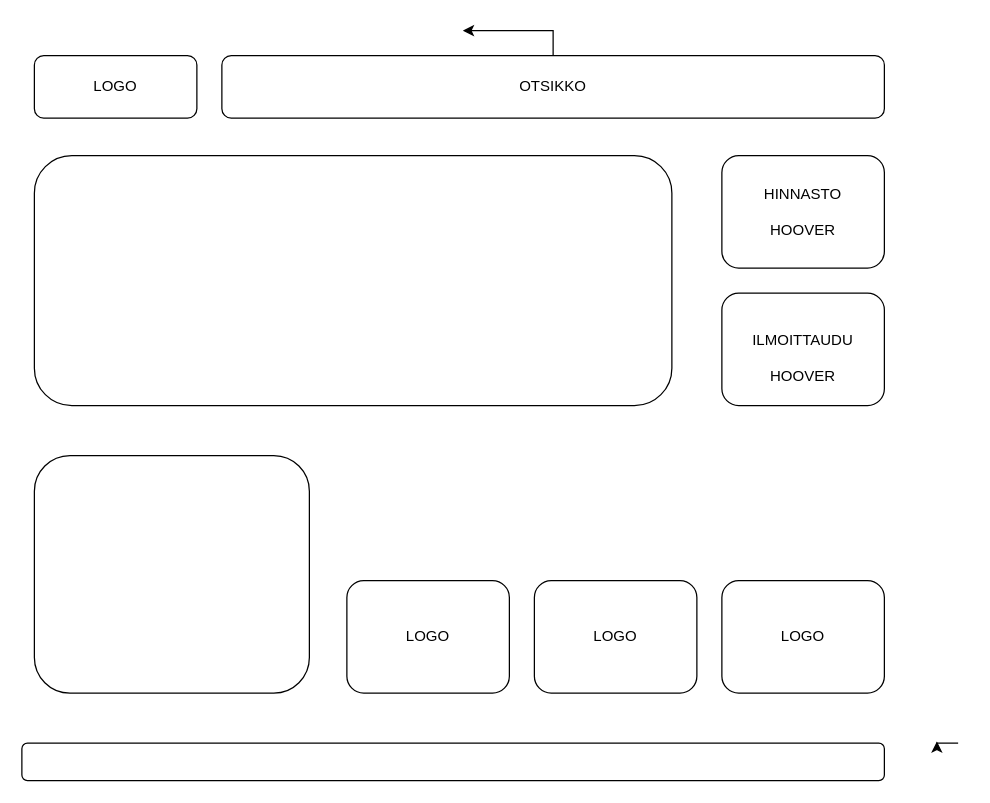
The diagram is 990 pixels wide and 803 high, and some of its shapes have lost their labels. Each missing label, with the centre of its shape:
Text: the point at 352,280
YHTEISTIEDOT TMS: the point at 452,761
YHTEISTYÖSSÄ: the point at 171,573
